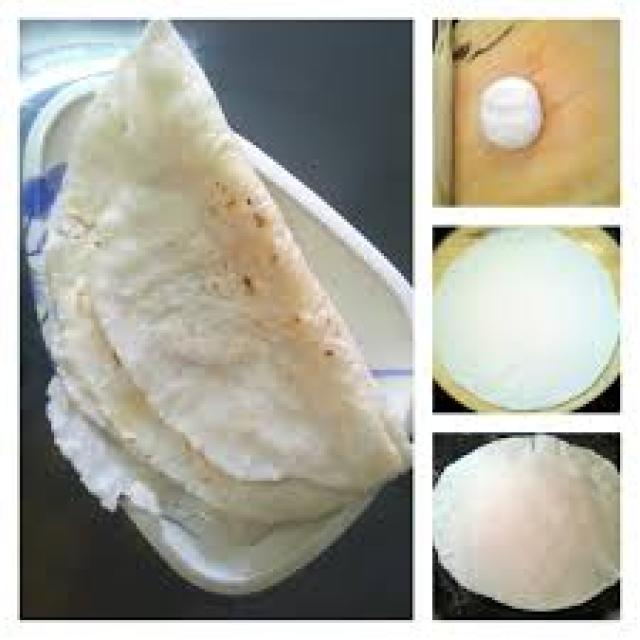DOSA: (26, 23, 401, 523)
